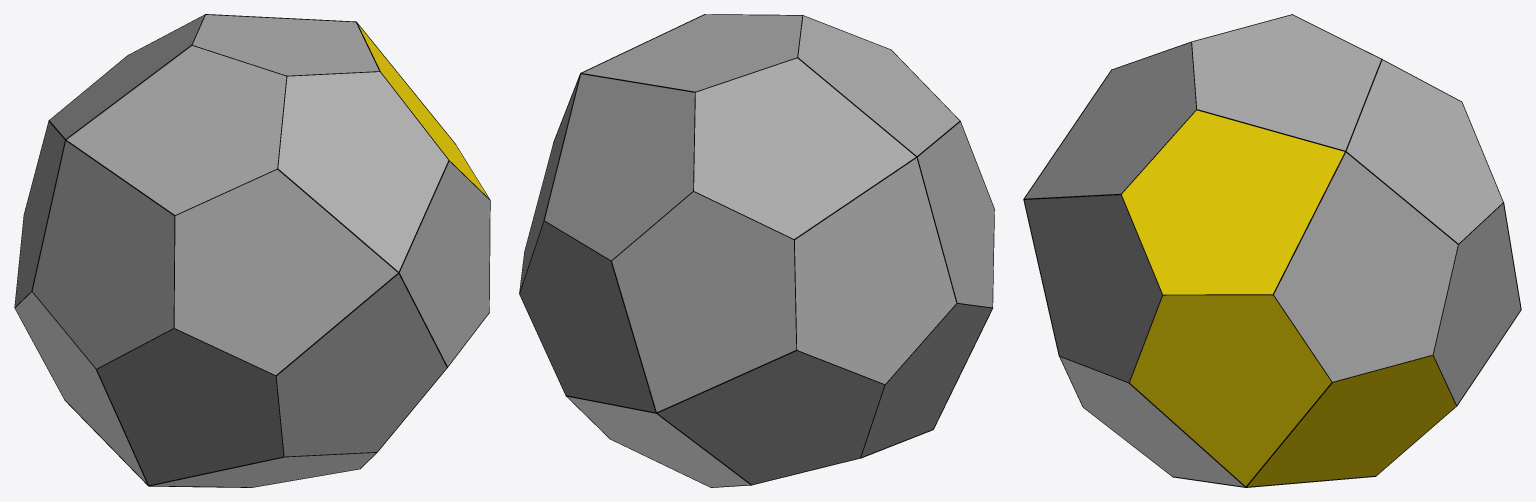
The model's file is PentagonalIcositetrahedron2.glb.
3 views of the same model, side by side, from view 1: azimuth 30°, elevation 25°; view 2: azimuth 150°, elevation 25°; view 3: azimuth 270°, elevation 25° (orthographic).
Size of the model in its own units: 2.52 by 2.52 by 2.6.
